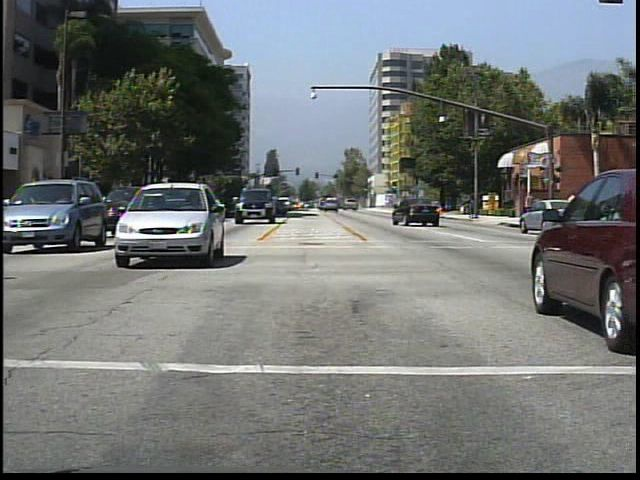person: (566, 190, 587, 235), (521, 192, 538, 229)
